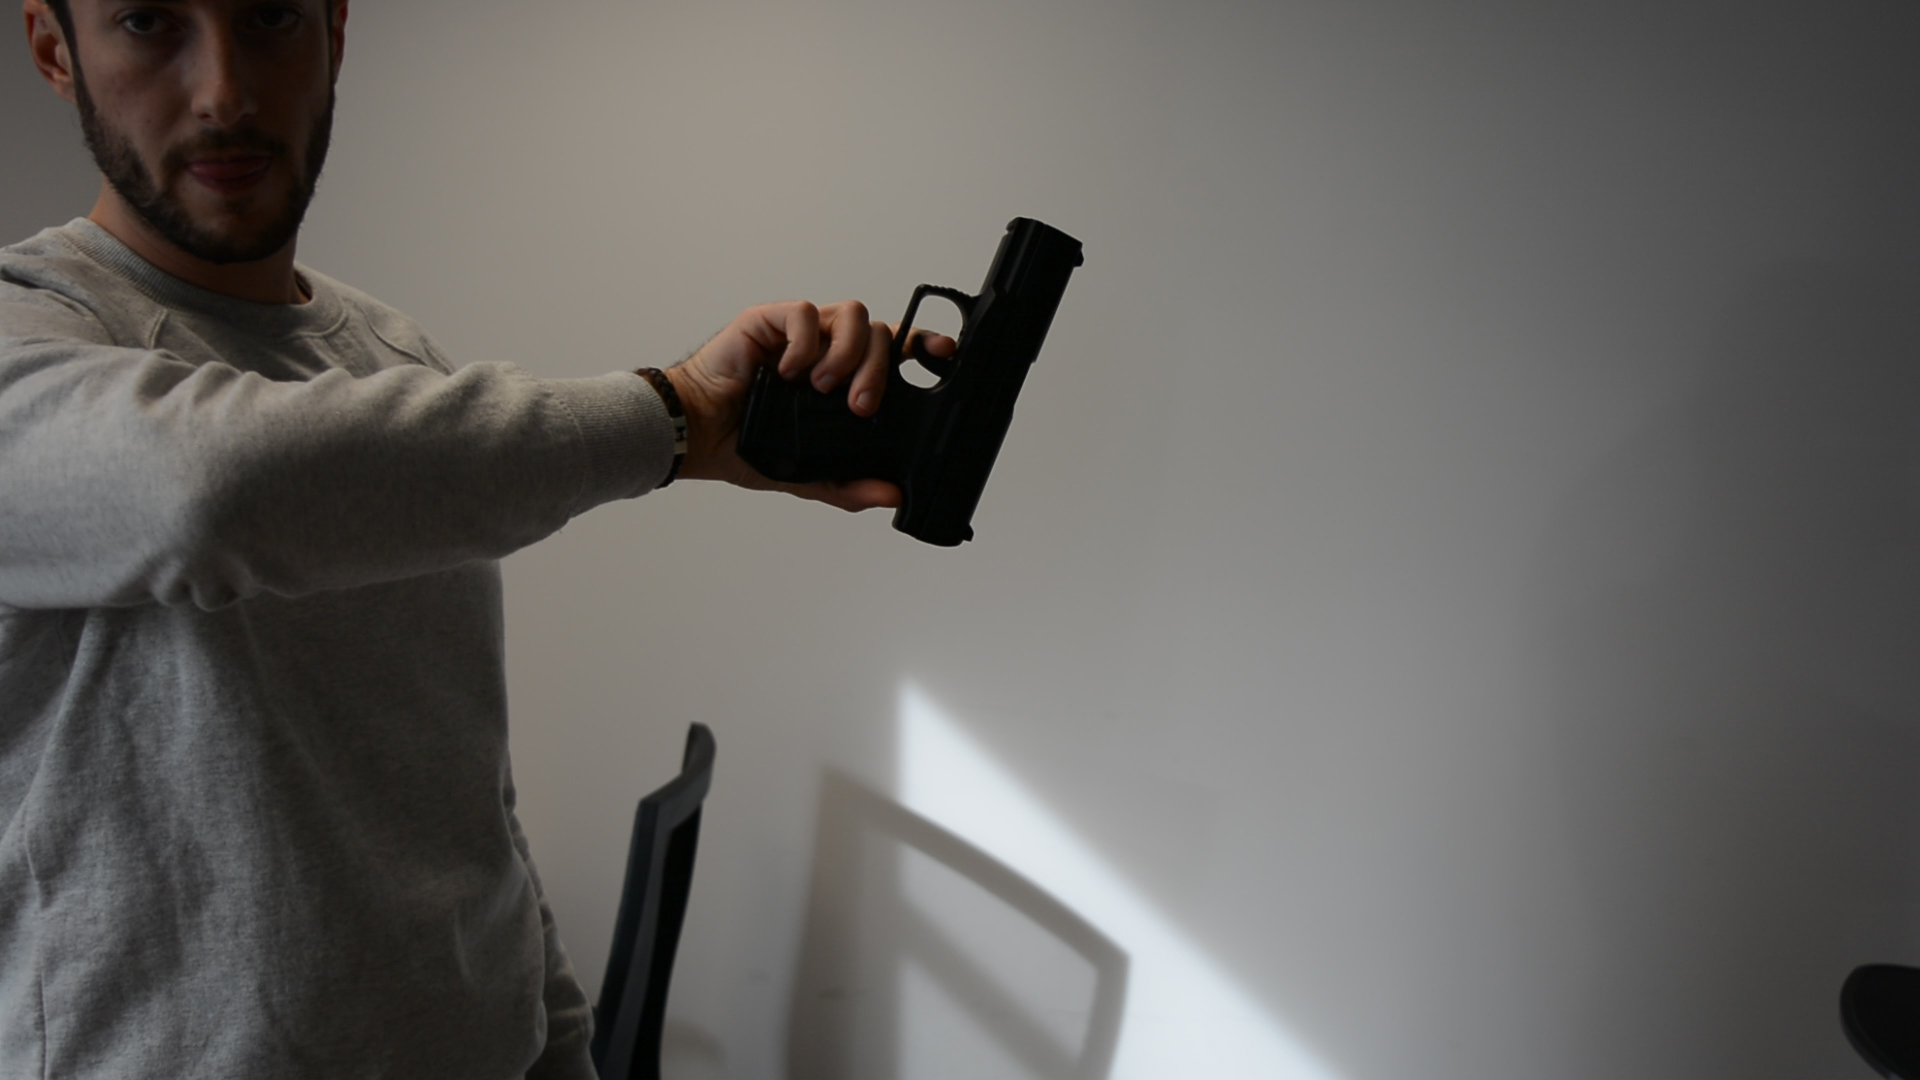pistol: (732, 215, 1088, 550)
